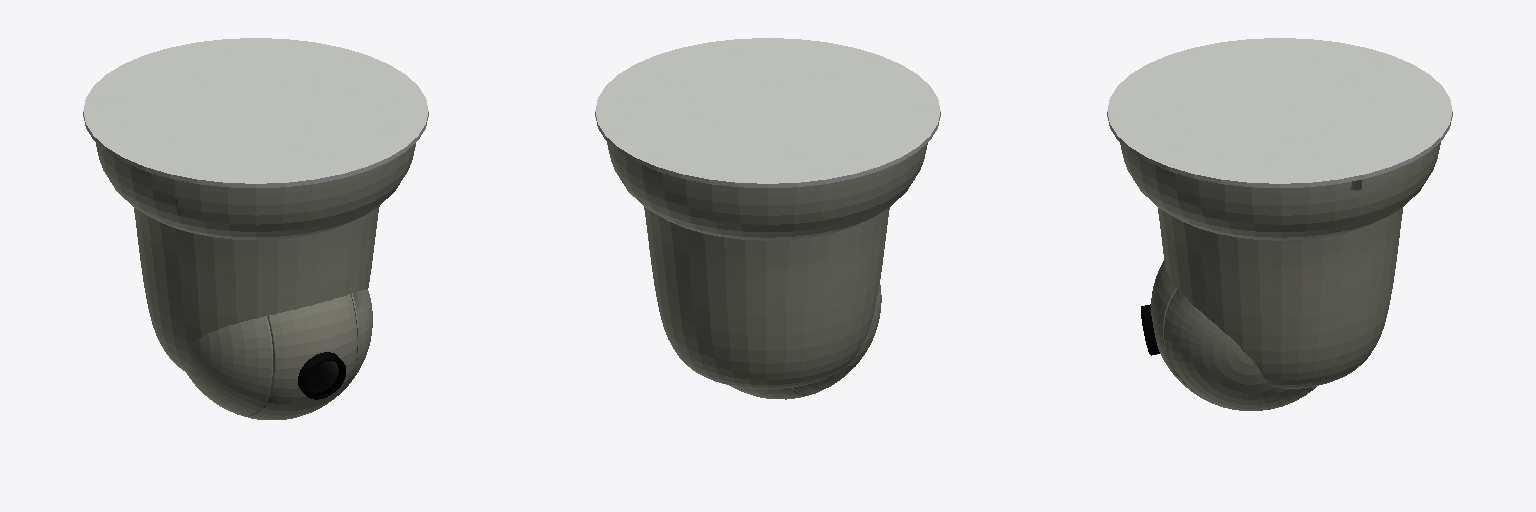
3 views of the same model, side by side, from view 1: azimuth 30°, elevation 25°; view 2: azimuth 150°, elevation 25°; view 3: azimuth 270°, elevation 25° (orthographic).
Parts seen in each view (by area): view 1: Line001, Cylinder001; view 2: Line001, Cylinder001; view 3: Line001, Cylinder001.
Part boxes in pixels (left/top/right/bottom): Line001: left=96, top=143, right=415, bottom=419; Cylinder001: left=83, top=38, right=428, bottom=187; Line001: left=607, top=142, right=927, bottom=399; Cylinder001: left=595, top=38, right=940, bottom=187; Line001: left=1120, top=142, right=1440, bottom=410; Cylinder001: left=1107, top=38, right=1452, bottom=187.
Size of the model in its own units: 15.68 by 14.53 by 15.68.
2 materials, 2 textured.